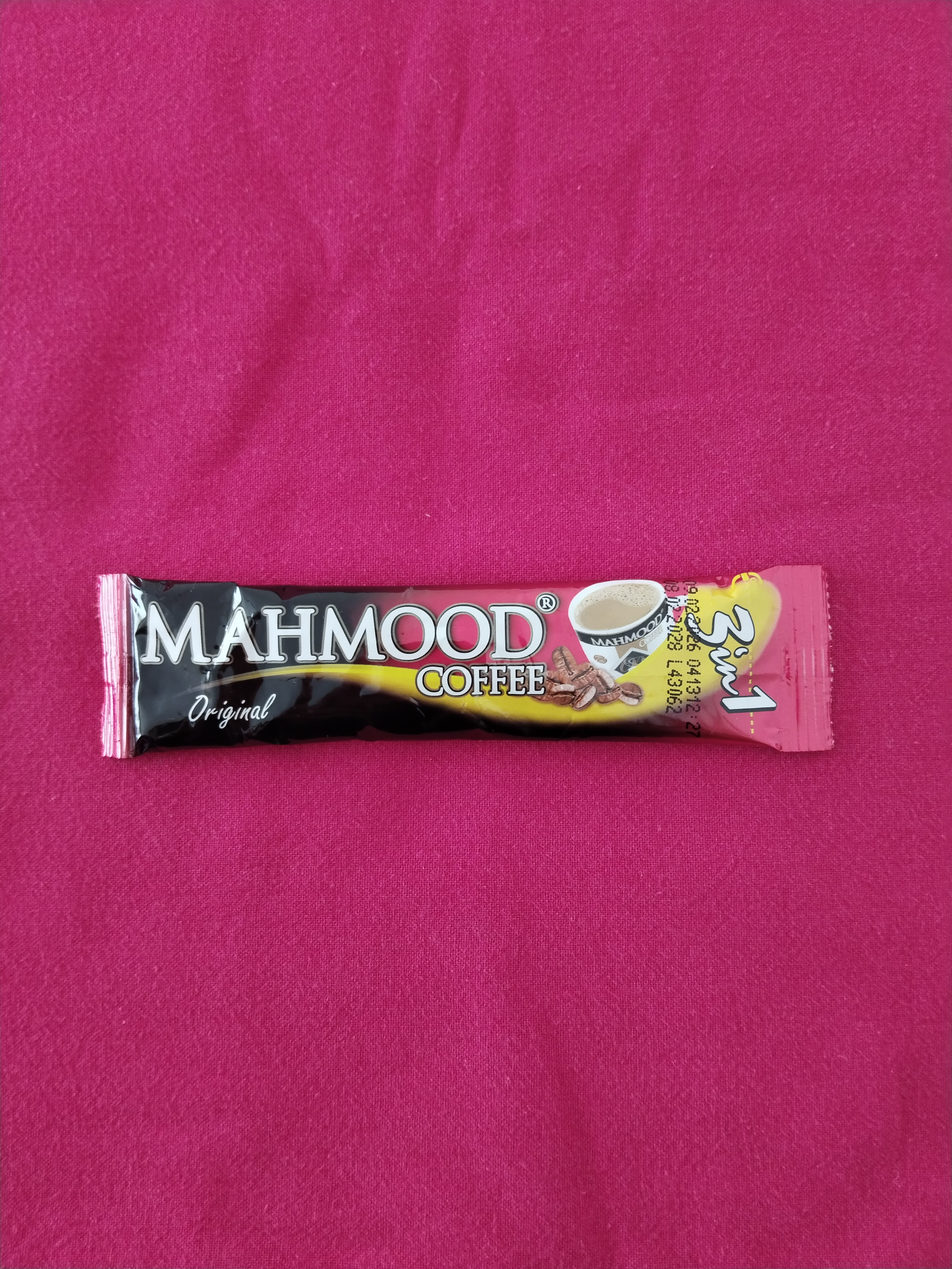mahmood_kahve: (96, 559, 833, 760)
